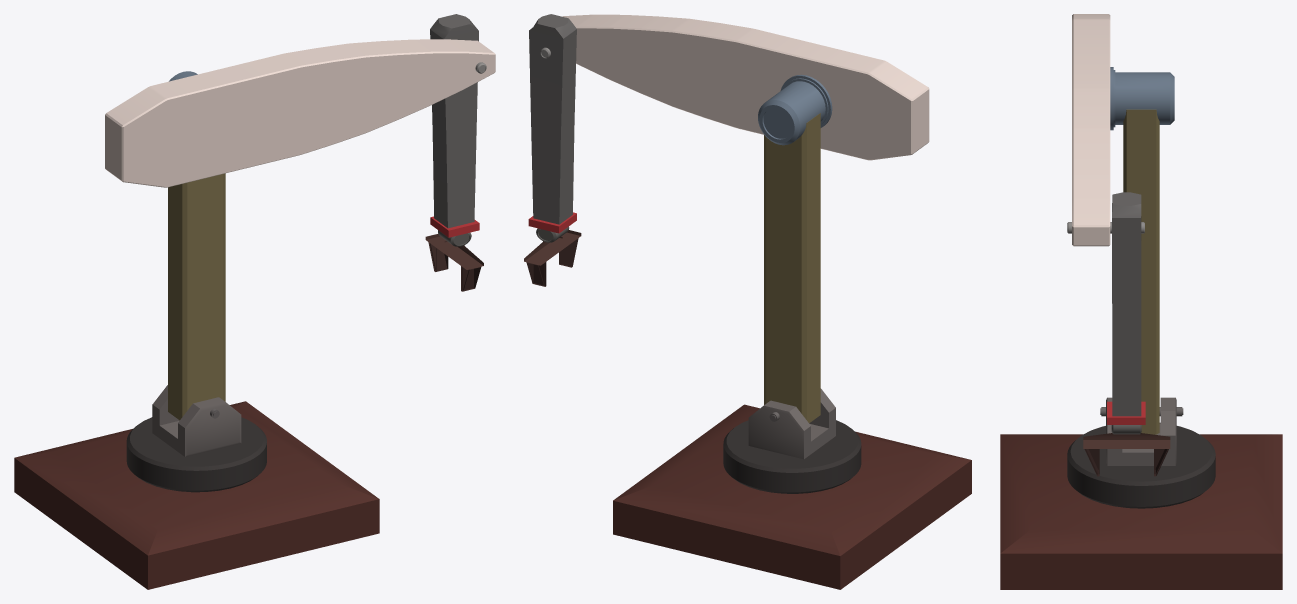
The model's file is Ramie_robota.glb.
The picture shows the model from 3 angles, left to right: view 1: azimuth 30°, elevation 25°; view 2: azimuth 150°, elevation 25°; view 3: azimuth 270°, elevation 25°; orthographic projection. The views are drawn at different scales.
Visible parts, largest first — view 1: Arm2, Base, Arm1, Arm3, Base_rotator, Link1, wrist_link, grabber; view 2: Base, Arm2, Arm1, Arm3, Base_rotator, Link1, Link2, wrist_link, grabber; view 3: Base, Arm2, Arm1, Base_rotator, Arm3, Link2, Link1, wrist_link, wrist_rotator1, grabber.
Part boxes in pixels (left/top/right/bottom): Arm2: left=105, top=39, right=495, bottom=187; Base: left=14, top=401, right=379, bottom=589; Arm1: left=168, top=173, right=225, bottom=420; Arm3: left=430, top=14, right=478, bottom=228; Base_rotator: left=126, top=417, right=266, bottom=492; Link1: left=152, top=385, right=241, bottom=456; wrist_link: left=425, top=234, right=483, bottom=269; grabber: left=428, top=242, right=481, bottom=291; Base: left=613, top=404, right=971, bottom=589; Arm2: left=562, top=14, right=929, bottom=160; Arm1: left=764, top=113, right=820, bottom=423; Arm3: left=529, top=14, right=576, bottom=224; Base_rotator: left=723, top=420, right=861, bottom=493; Link1: left=748, top=388, right=835, bottom=459; Link2: left=758, top=74, right=832, bottom=145; wrist_link: left=524, top=230, right=581, bottom=265; grabber: left=526, top=238, right=578, bottom=286; Base: left=1000, top=434, right=1282, bottom=589; Arm2: left=1072, top=14, right=1110, bottom=246; Arm1: left=1123, top=109, right=1159, bottom=434; Base_rotator: left=1067, top=422, right=1215, bottom=508; Arm3: left=1112, top=192, right=1141, bottom=416; Link2: left=1110, top=67, right=1174, bottom=130; Link1: left=1106, top=397, right=1176, bottom=465; wrist_link: left=1083, top=433, right=1170, bottom=448; wrist_rotator1: left=1107, top=401, right=1145, bottom=424; grabber: left=1084, top=449, right=1168, bottom=476.
Size of the model in its own units: 9.12 by 10.28 by 5.5.
Materials: 14 (14 with a texture image).
